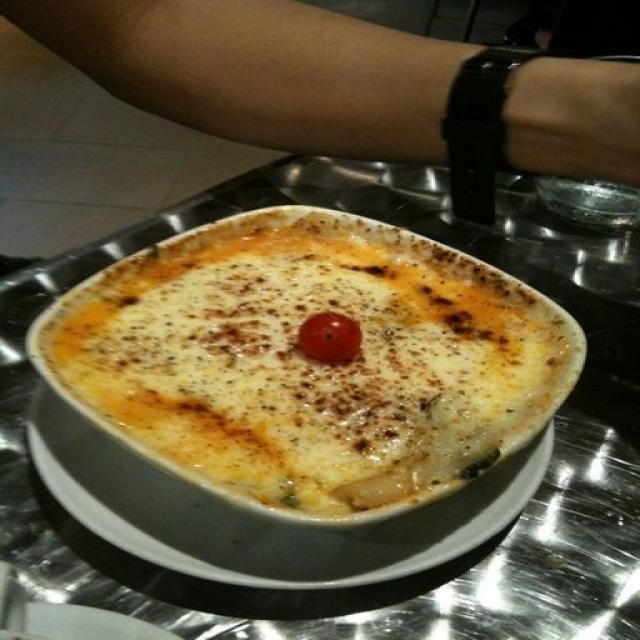Lasagna: (65, 228, 599, 540)
